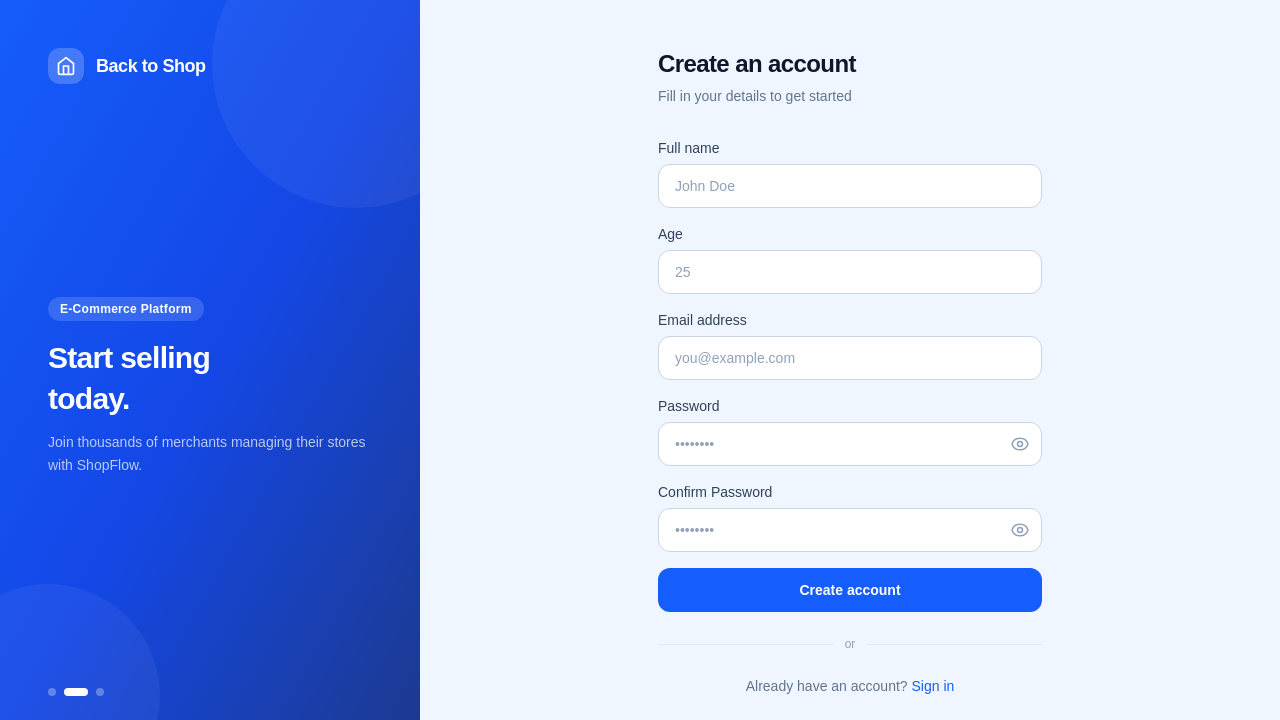
RegisterPage — live password match indicator › shows "Passwords do not match" when confirm differs from password
Type "password123" into the 1st password field with placeholder "••••••••" at (850, 444), box [658,422,1042,466]
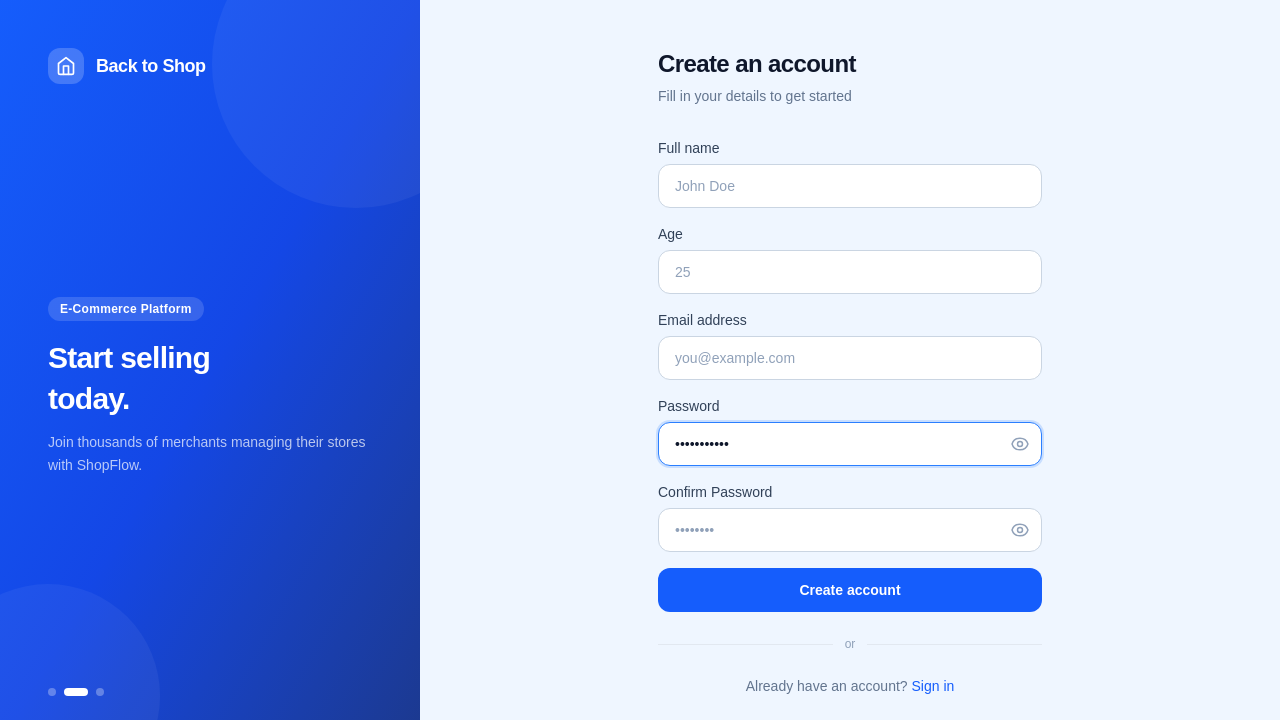
Type "different" into the password field with placeholder "••••••••" at (850, 530), box [658,508,1042,552]
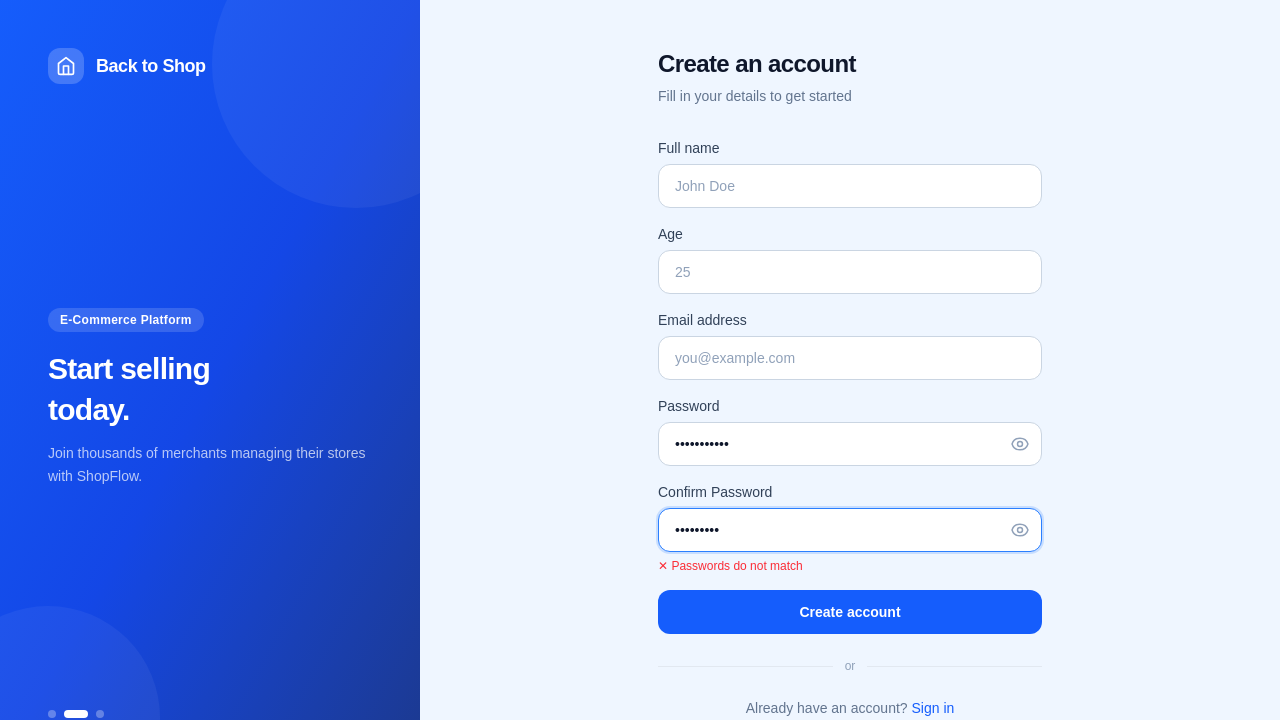
Result: the text "✕ Passwords do not match" is shown at [658,559,803,573]
